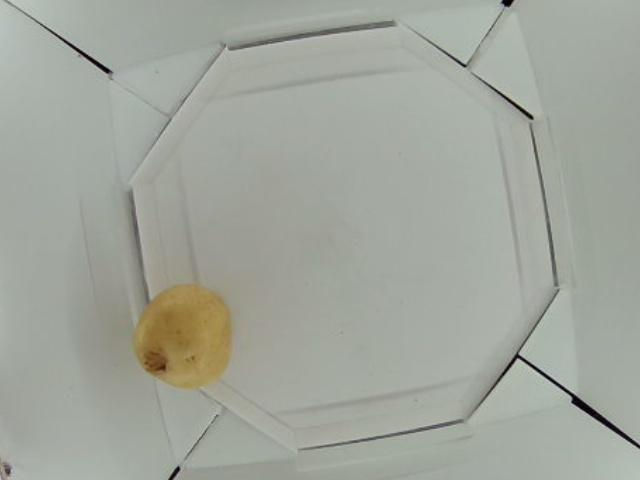Potato: (125, 283, 231, 391)
